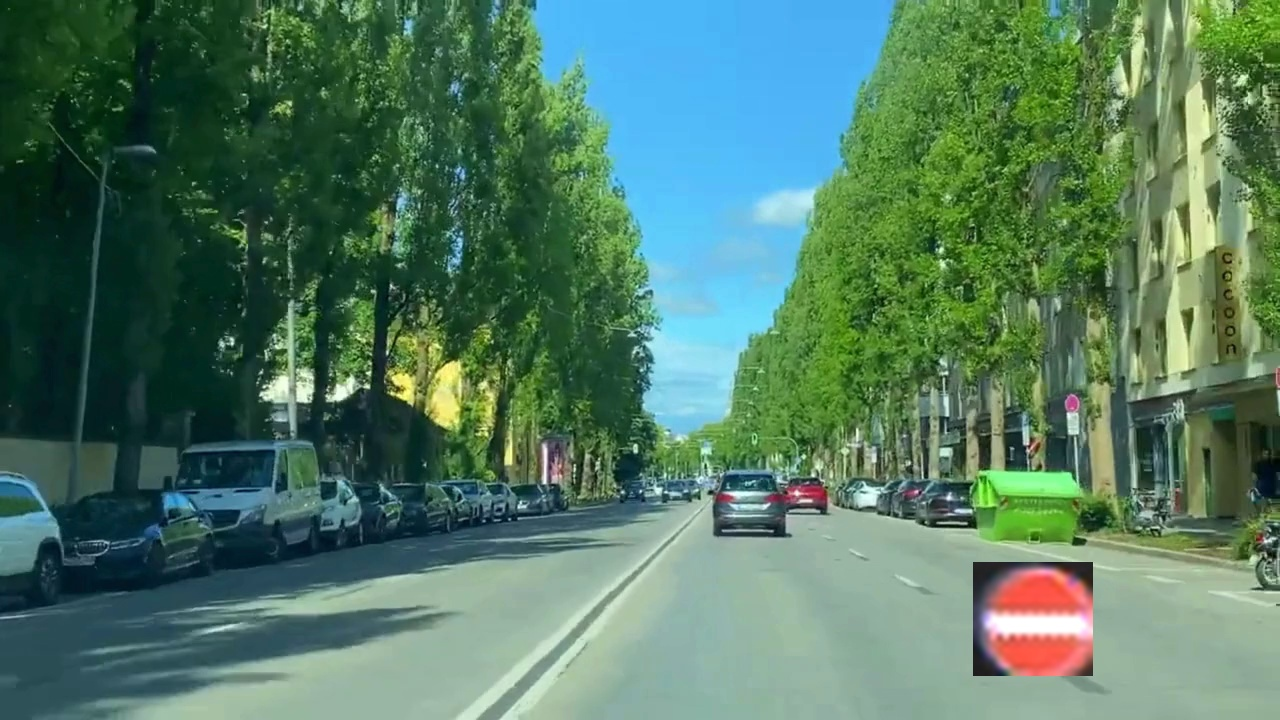No entry: (973, 562, 1093, 676)
